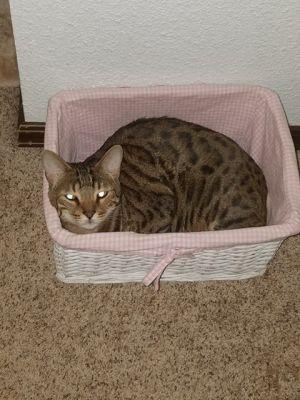bengal: (35, 143, 137, 232)
